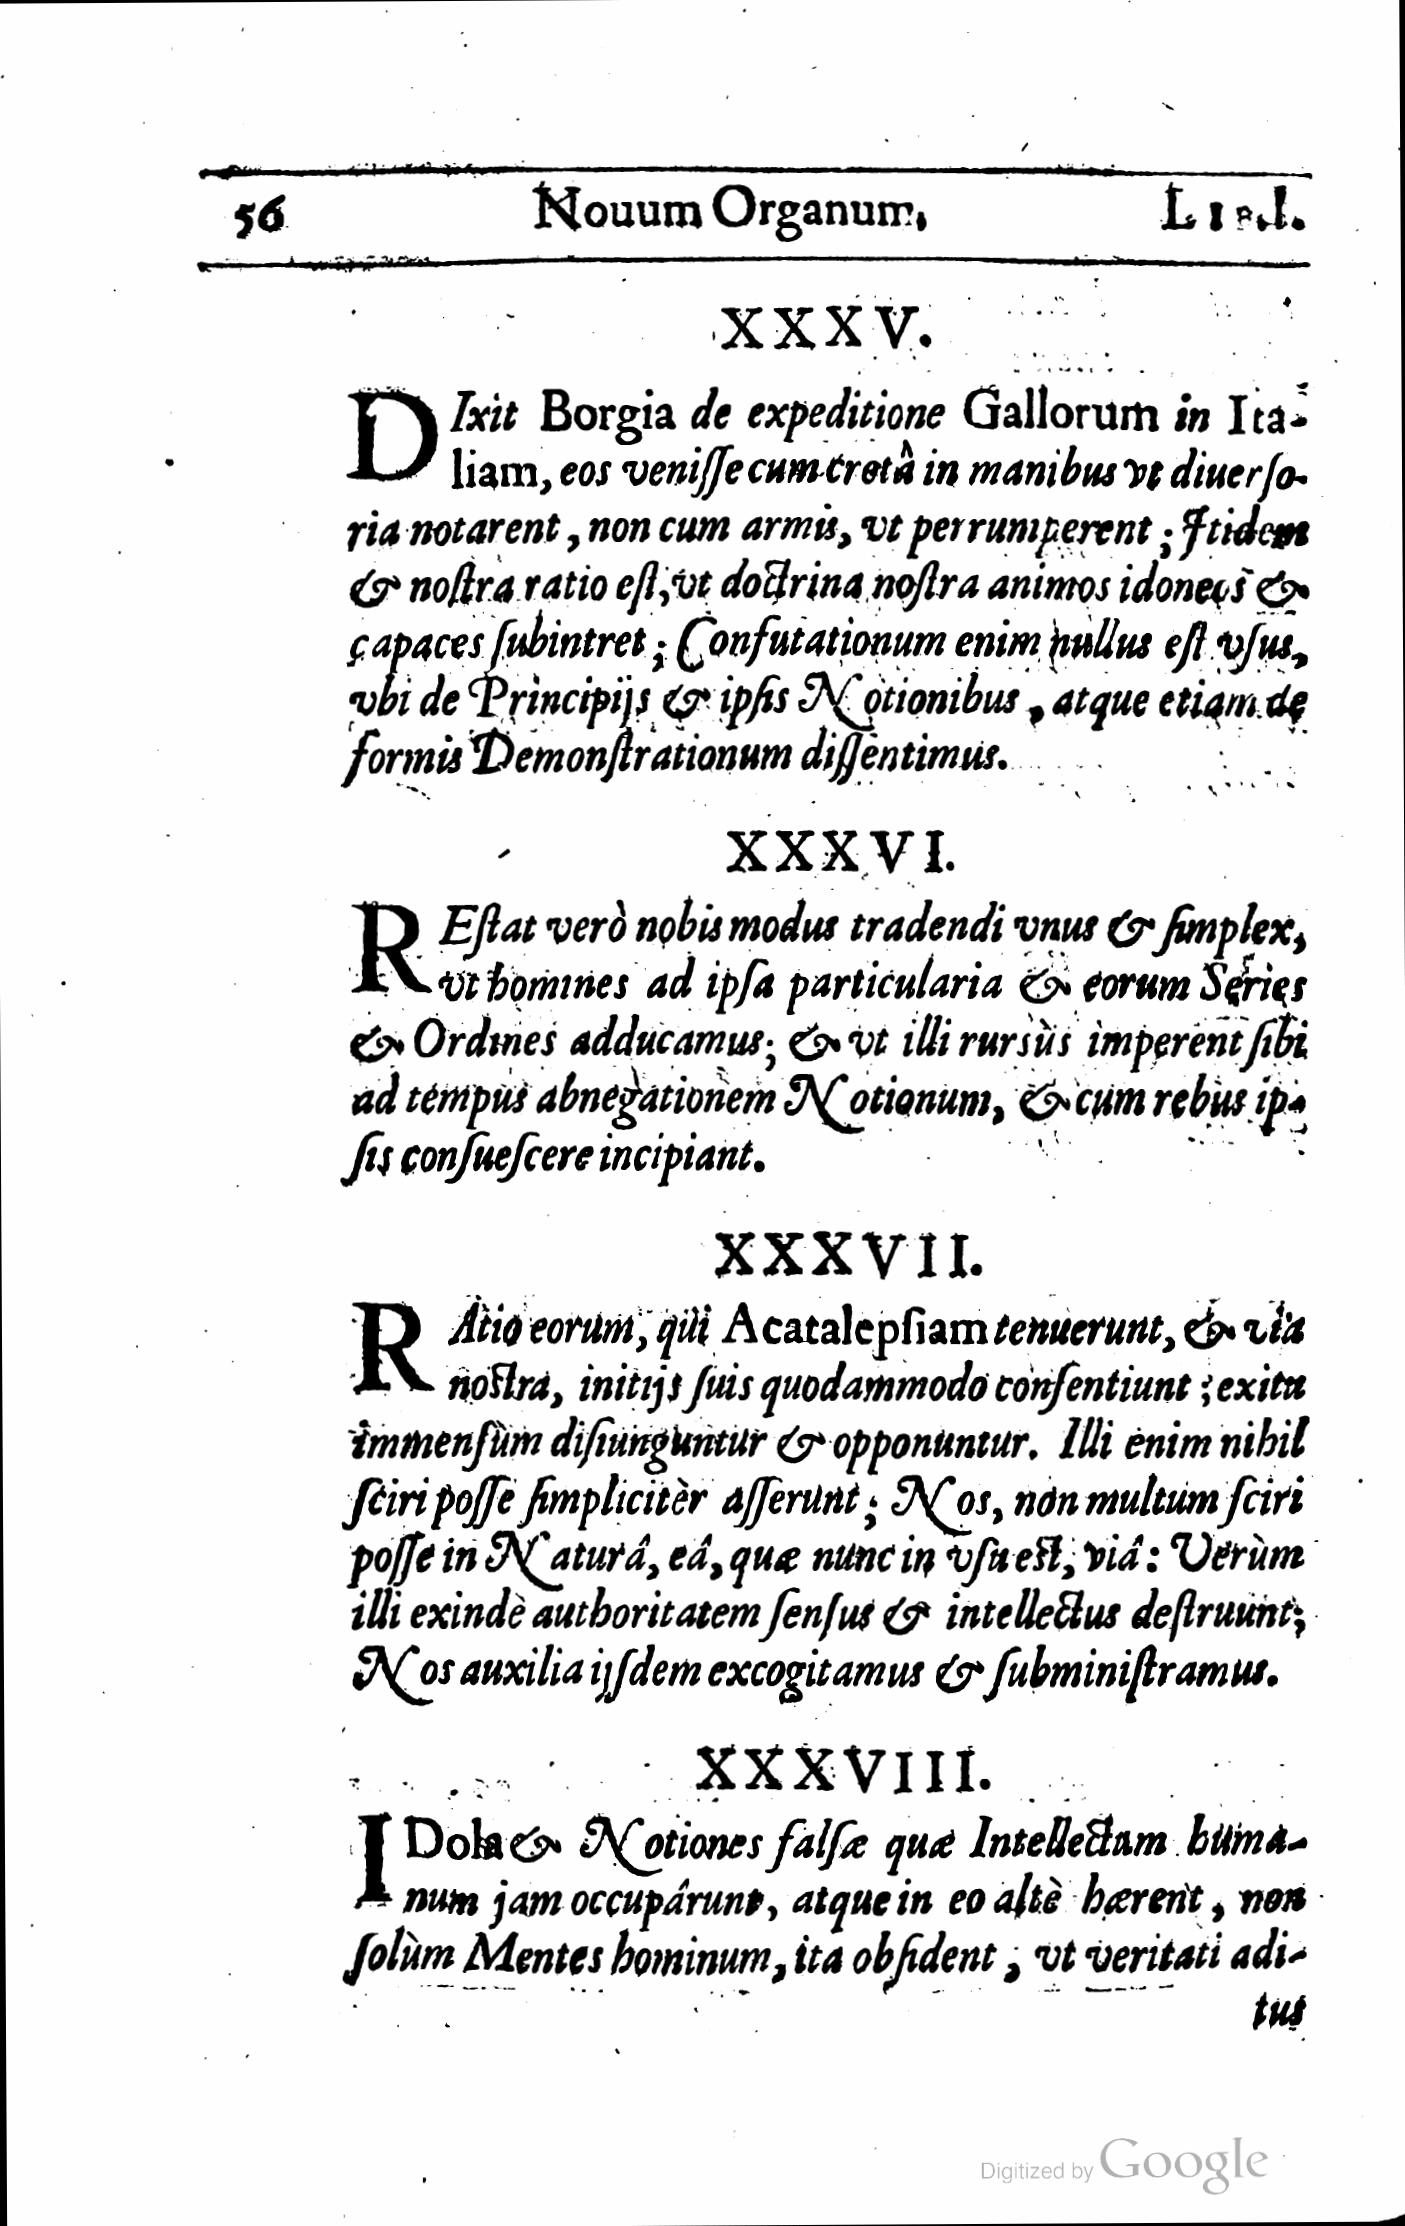catchword: (1250, 1993, 1309, 2032)
full_p: (337, 383, 1316, 794), (343, 1297, 1311, 1710), (337, 893, 1313, 1189), (690, 1739, 994, 1797), (707, 1226, 986, 1288), (722, 825, 963, 882), (714, 298, 942, 356)
header: (529, 181, 1311, 249)
initial_l: (346, 1299, 439, 1398), (350, 896, 435, 998), (345, 388, 439, 480), (350, 1809, 400, 1909)
page_num: (228, 188, 293, 244)
top_p: (337, 1804, 1311, 1993)
